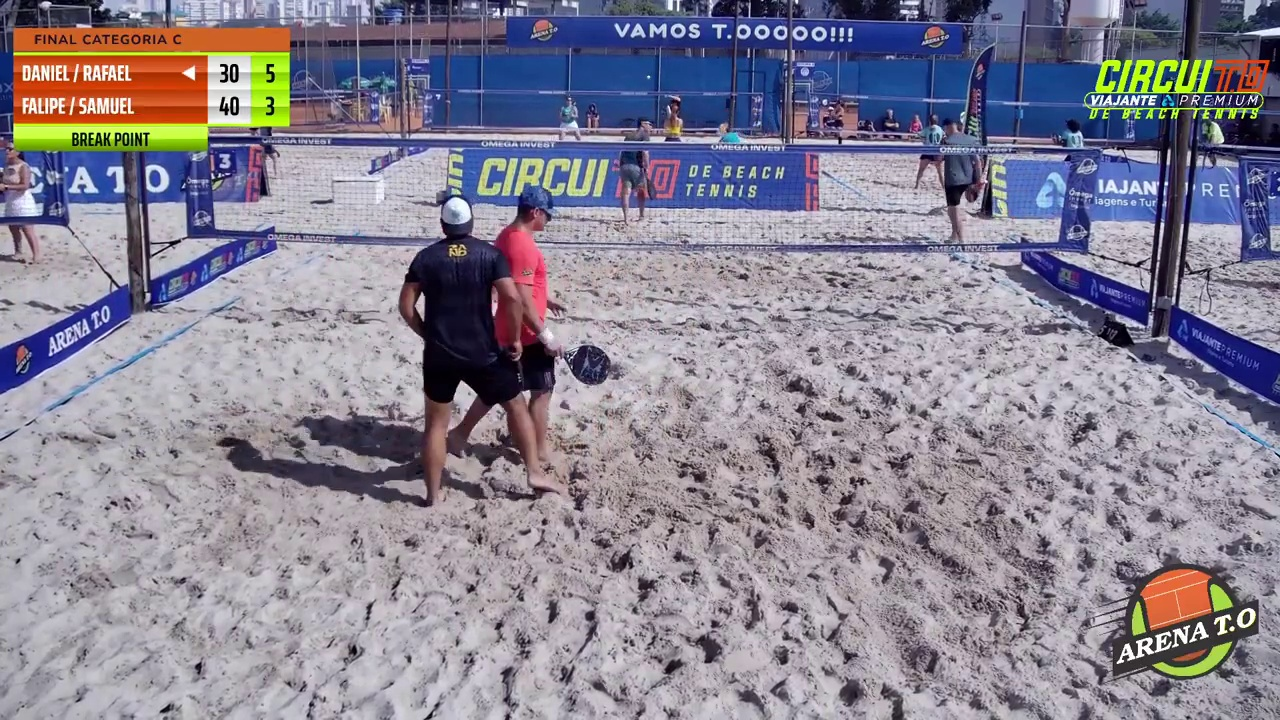court_line: (637, 0, 809, 409)
